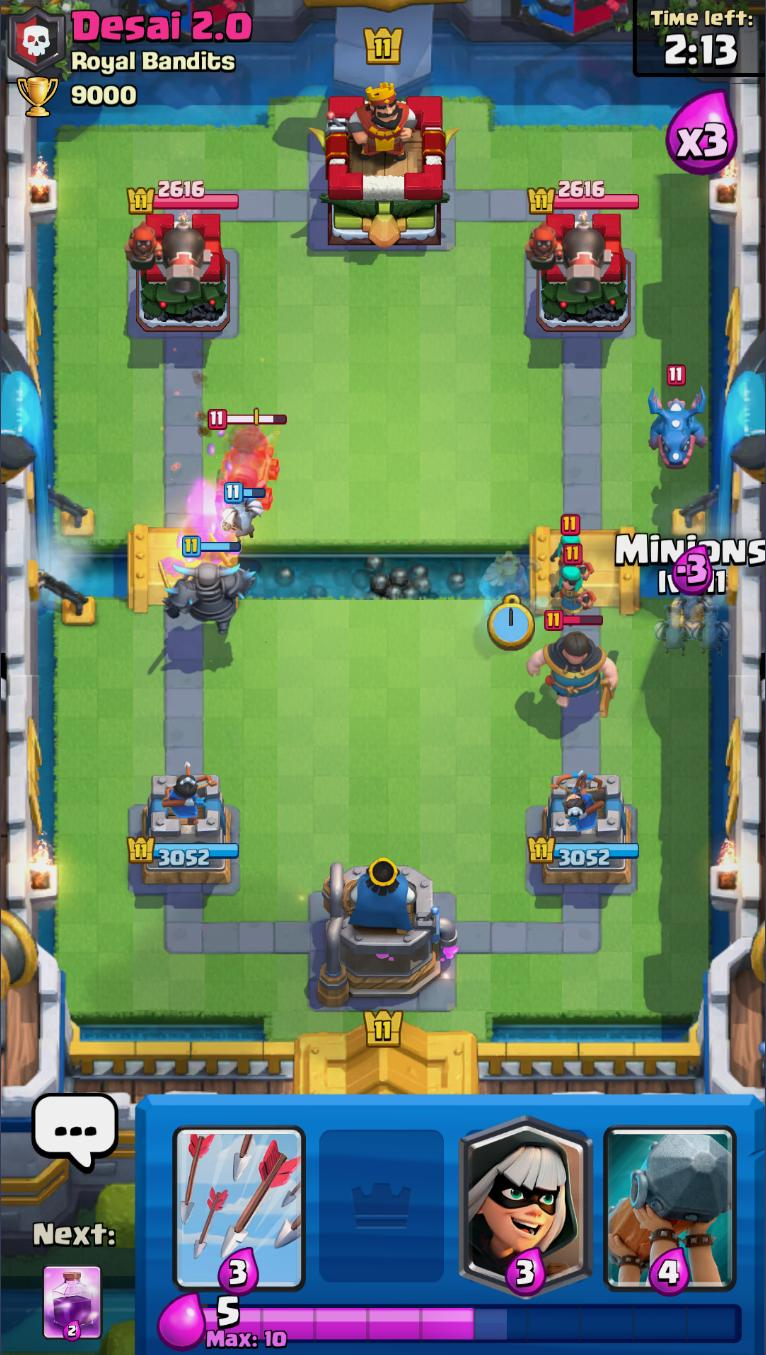ArrowDeck: (168, 1094, 311, 1295)
BanditDeck: (456, 1095, 601, 1295)
CannonCart: (207, 408, 289, 508)
Cannoneer: (526, 212, 607, 298), (124, 214, 207, 297)
ElectroDragon: (647, 365, 710, 472)
Elixir: (200, 1296, 745, 1350)
Empty: (310, 1094, 456, 1295)
EnemyTower: (524, 209, 633, 333), (125, 207, 231, 332)
KingTower: (310, 81, 461, 249)
MyBattleRam: (600, 1095, 740, 1295)
MyKingTower: (314, 855, 460, 1007)
MyMinion: (222, 482, 265, 542)
MyPekka: (157, 534, 259, 637)
MyPrincessTower: (527, 770, 641, 886), (128, 773, 242, 888)
MyPrincessTowerHP: (127, 836, 240, 867), (527, 837, 640, 866)
MyRoyaleGhost: (479, 550, 541, 620)
RageNext: (40, 1264, 105, 1341)
RascalM: (526, 610, 622, 718)
RascalW: (547, 544, 597, 618), (546, 514, 593, 578)
TowerPrincessHP: (127, 178, 240, 212), (529, 179, 641, 211)
